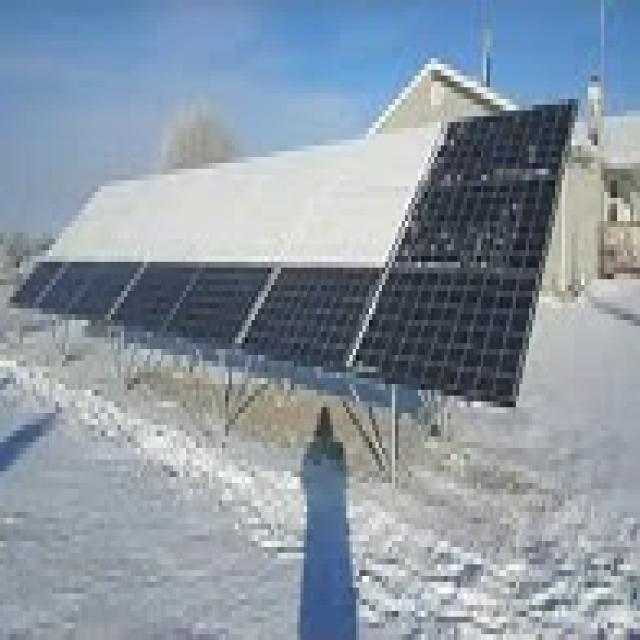snow covered: (319, 126, 531, 384)
